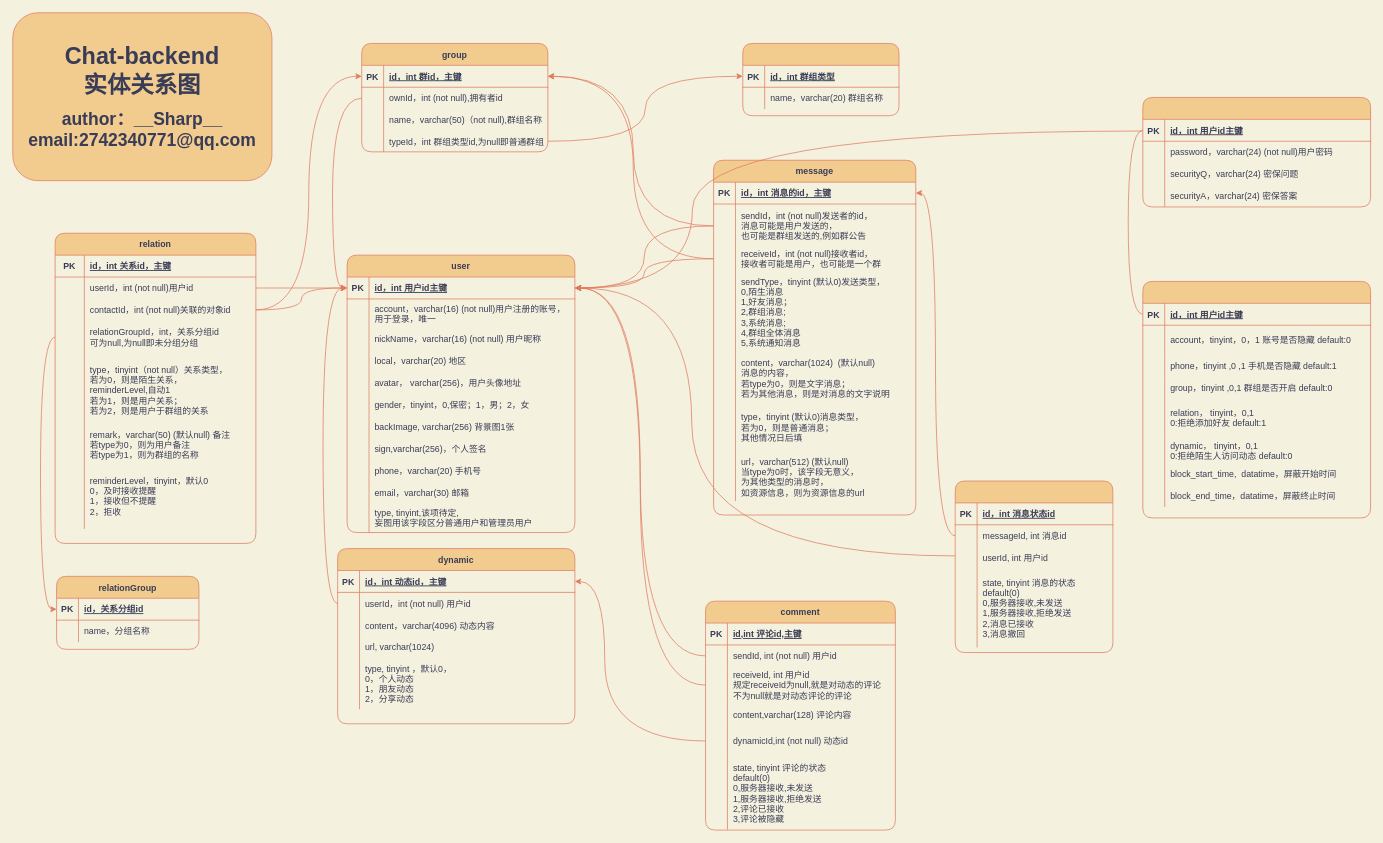
Image size: 1383x843. Some labels were removed from this diagram. The box of each missing label's shape, as (x1, y1, x2, y2) in pixels:
goupType: (742, 43, 899, 116)
messageState: (954, 480, 1113, 653)
userPrivacy: (1142, 281, 1371, 518)
userSecurity: (1142, 97, 1371, 207)
